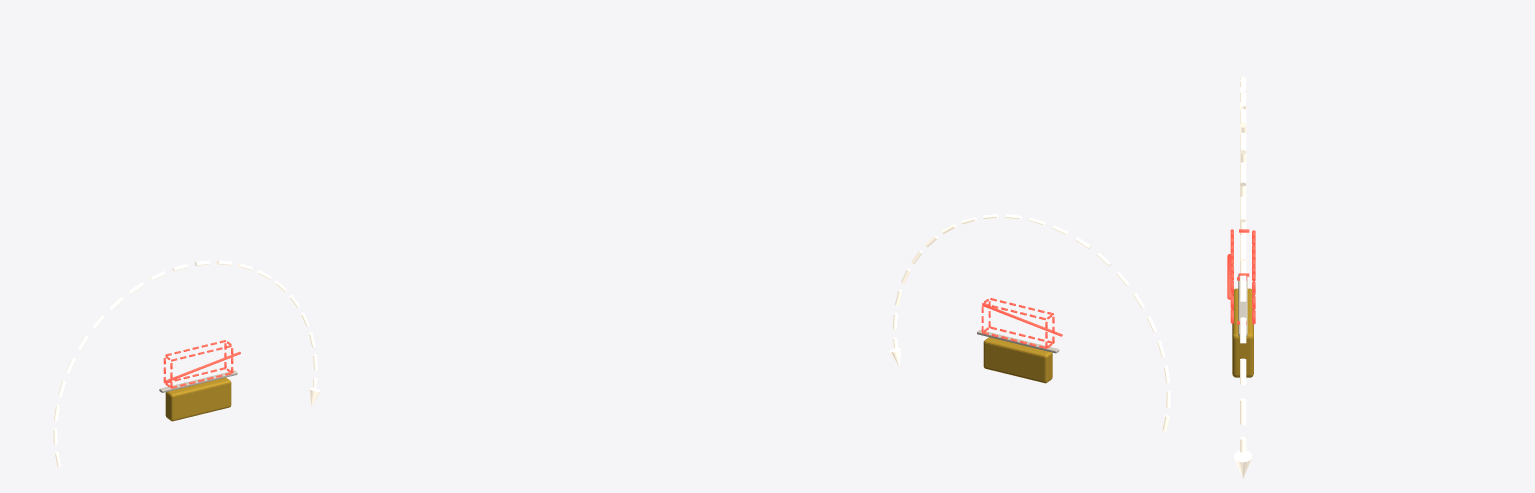
File: proliferacion.glb
3 views of the same model, side by side, from view 1: azimuth 30°, elevation 25°; view 2: azimuth 150°, elevation 25°; view 3: azimuth 270°, elevation 25° (orthographic). The views are drawn at different scales.
Parts seen in each view (by area): view 1: sdo_bloque, arco_punteado, snte_ausente_malla; view 2: sdo_bloque, arco_punteado, snte_ausente_malla; view 3: arco_punteado, sdo_bloque, snte_ausente_malla, barra, arco_punta.
Part boxes in pixels (box(x1,y1,x2,y2)): sdo_bloque: box(165, 377, 231, 421); arco_punteado: box(53, 260, 317, 466); snte_ausente_malla: box(163, 340, 240, 388); sdo_bloque: box(983, 337, 1052, 383); arco_punteado: box(892, 214, 1170, 431); snte_ausente_malla: box(981, 298, 1062, 348); arco_punteado: box(1240, 76, 1246, 452); sdo_bloque: box(1232, 288, 1253, 377); snte_ausente_malla: box(1227, 229, 1255, 324); barra: box(1238, 274, 1247, 336); arco_punta: box(1233, 450, 1252, 478).
Size of the model in its own units: 7.73 by 4.02 by 2.17.
